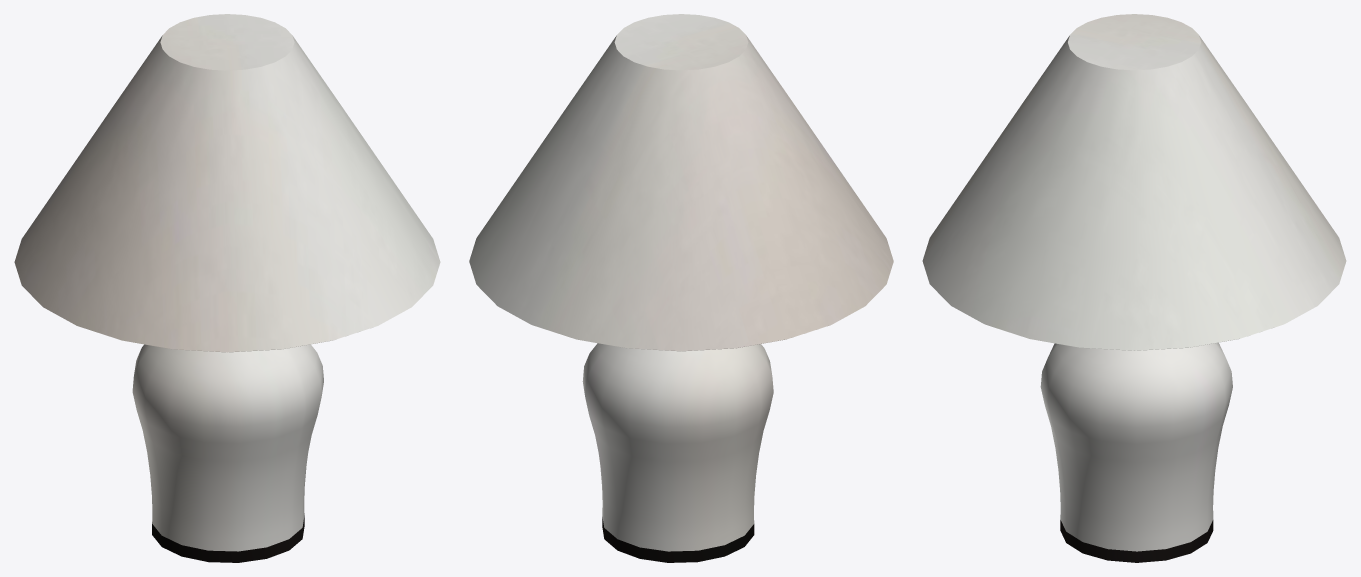
The model's file is Lamp.FBX.
3 renders of one model, left to right at view 1: azimuth 30°, elevation 25°; view 2: azimuth 150°, elevation 25°; view 3: azimuth 270°, elevation 25°, orthographic.
Visible parts, largest first — view 1: Lamp; view 2: Lamp; view 3: Lamp.
Part boxes in pixels (x1=…): Lamp: x1=14, y1=14, x2=440, y2=562; Lamp: x1=469, y1=14, x2=893, y2=562; Lamp: x1=922, y1=14, x2=1346, y2=562.
Bounding box in the file's own units: 14.31 × 18.15 × 14.31.
